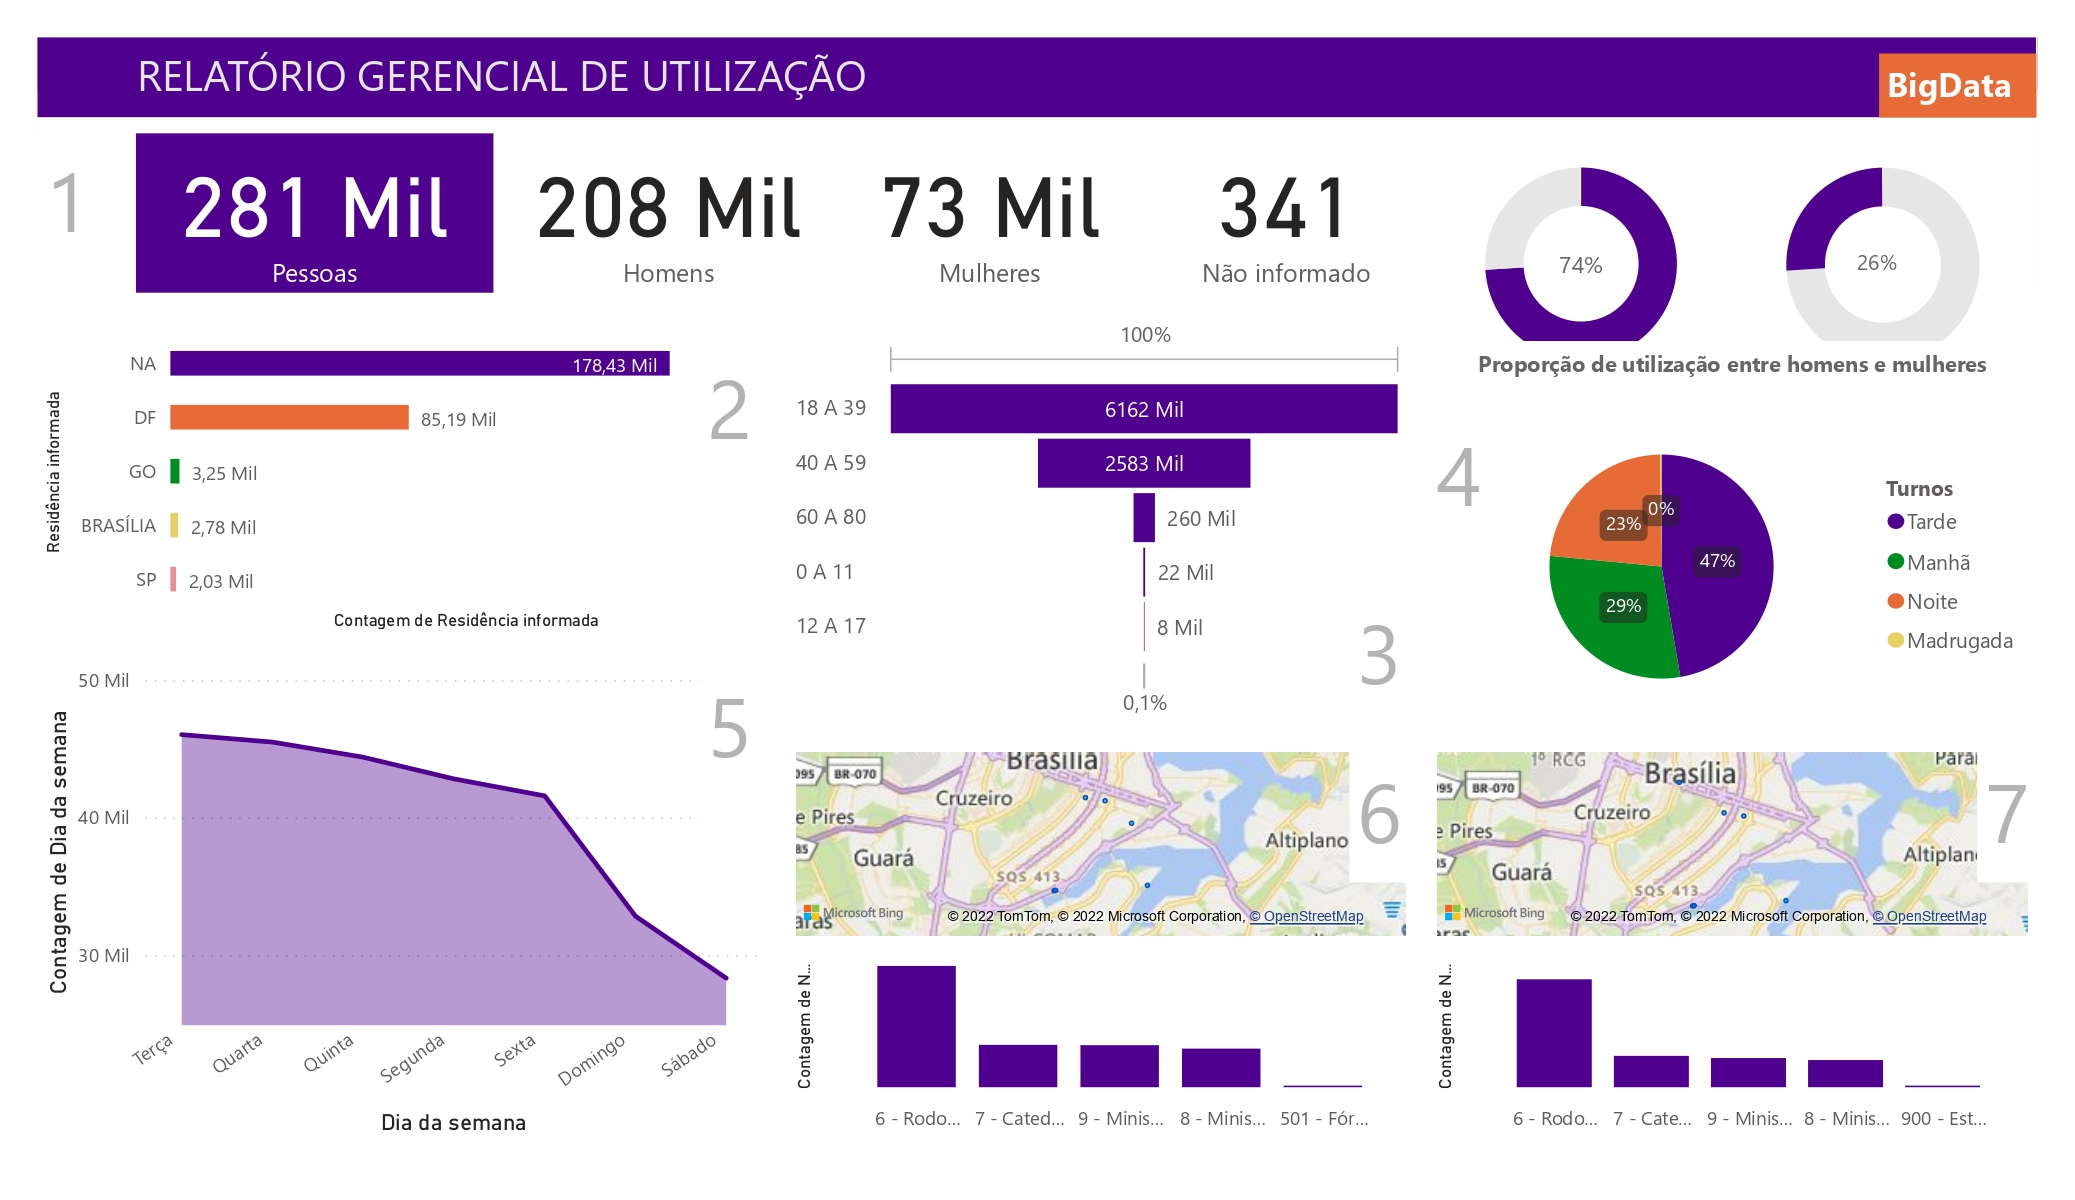

What the dashboard file says about the page in this screenshot:
{"tool":"powerbi","page":{"name":"Página 1","canvas":[1280,720],"ordinal":0},"visuals":[{"type":"textbox","box":[0,0,1279.4,51.1],"z":0},{"type":"card","fields":{"Values":["bikes_importada_tratada.Pessoas"]},"box":[62.8,61.3,229.3,102.2],"z":2000},{"type":"card","fields":{"Values":["bikes_importada_tratada.Homens"]},"box":[305.2,61.3,197.2,102.2],"z":3000},{"type":"card","fields":{"Values":["bikes_importada_tratada.Mulheres"]},"box":[512.6,61.3,194.2,102.2],"z":4000},{"type":"card","fields":{"Values":["bikes_importada_tratada.Não informado"]},"box":[717.1,61.3,163.6,102.2],"z":5000},{"type":"clusteredBarChart","fields":{"Category":["bikes_importada_tratada.Residência informada"],"Y":["bikes_importada_tratada.Residência informada"]},"box":[0,173.8,468.8,210.3],"z":6000},{"type":"funnel","fields":{"Category":["bikes_importada_tratada.Faixa etária"],"Y":["bikes_importada_tratada.Idade"]},"box":[480.5,173.8,400.2,267.3],"z":7000},{"type":"pieChart","fields":{"Category":["bikes_importada_tratada.Turnos"],"Y":["bikes_importada_tratada.Turnos"]},"box":[890.9,236.6,388.5,204.5],"z":8000},{"type":"areaChart","fields":{"Category":["bikes_importada_tratada.Dia da semana"],"Y":["bikes_importada_tratada.Dia da semana"]},"box":[0,397.2,468.8,309.6],"z":9000},{"type":"map","fields":{"Y":["bikes_importada_tratada.Latitude inicial"],"X":["bikes_importada_tratada.Longitude inicial"]},"box":[480.5,452.7,400.2,127.1],"z":10000},{"type":"map","fields":{"Y":["bikes_importada_tratada.Latitude final"],"X":["bikes_importada_tratada.Longitude final"]},"box":[890.9,452.7,388.5,127.1],"z":11000},{"type":"textbox","box":[1178.6,10.2,100.8,40.9],"z":12000},{"type":"textbox","box":[0,61.3,62.8,102.2],"z":13000},{"type":"textbox","box":[423.5,194.2,45.3,84.7],"z":14000},{"type":"textbox","box":[568.1,360.7,48.2,80.3],"z":15000},{"type":"textbox","box":[1241.4,452.7,38,87.6],"z":16000},{"type":"textbox","box":[423.5,397.2,45.3,122.7],"z":17000},{"type":"textbox","box":[839.8,452.7,40.9,87.6],"z":18000},{"type":"textbox","box":[839.8,350.5,40.9,90.5],"z":19000},{"type":"textbox","box":[890.9,236.6,51.1,87.6],"z":20000},{"type":"textbox","box":[890.9,61.3,388.5,165],"z":21000},{"type":"donutChart","fields":{"Category":["bikes_importada_tratada.Gênero do usuário"],"Y":["bikes_importada_tratada.Gênero do usuário"]},"box":[890.9,62.8,194.2,163.6],"z":22000},{"type":"donutChart","fields":{"Y":["bikes_importada_tratada.Mulheres"],"Category":["bikes_importada_tratada.Gênero do usuário"]},"box":[1086.8,62.2,189,164.6],"z":23000},{"type":"textbox","box":[961,130,54,33.6],"z":24000},{"type":"textbox","box":[917.2,194.2,343.2,32.1],"z":25000},{"type":"textbox","box":[1159.6,130,46.7,33.6],"z":26000},{"type":"columnChart","fields":{"Category":["bikes_importada_tratada.Número / Estação inicial"],"Y":["bikes_importada_tratada.Número / Estação inicial"]},"box":[480.5,579.8,400.2,127.1],"z":27000},{"type":"columnChart","fields":{"Category":["bikes_importada_tratada.Número / Estação final"],"Y":["bikes_importada_tratada.Número / Estação final"]},"box":[890.9,579.8,384.1,127.1],"z":28000}]}

Visuals, with their boxes on the page's 1280x720 design canvas (x1, y1, x2, y2). These are canvas units, not pixel positions in the 2075x1200 screenshot, which may show the page scaled, cropped or inside an application window:
textbox: [0, 0, 1279, 51]
card - bikes_importada_tratada.Pessoas: [63, 61, 292, 164]
card - bikes_importada_tratada.Homens: [305, 61, 502, 164]
card - bikes_importada_tratada.Mulheres: [513, 61, 707, 164]
card - bikes_importada_tratada.Não informado: [717, 61, 881, 164]
clusteredBarChart - bikes_importada_tratada.Residência informada x bikes_importada_tratada.Residência informada: [0, 174, 469, 384]
funnel - bikes_importada_tratada.Faixa etária x bikes_importada_tratada.Idade: [480, 174, 881, 441]
pieChart - bikes_importada_tratada.Turnos x bikes_importada_tratada.Turnos: [891, 237, 1279, 441]
areaChart - bikes_importada_tratada.Dia da semana x bikes_importada_tratada.Dia da semana: [0, 397, 469, 707]
map - bikes_importada_tratada.Latitude inicial x bikes_importada_tratada.Longitude inicial: [480, 453, 881, 580]
map - bikes_importada_tratada.Latitude final x bikes_importada_tratada.Longitude final: [891, 453, 1279, 580]
textbox: [1179, 10, 1279, 51]
textbox: [0, 61, 63, 164]
textbox: [424, 194, 469, 279]
textbox: [568, 361, 616, 441]
textbox: [1241, 453, 1279, 540]
textbox: [424, 397, 469, 520]
textbox: [840, 453, 881, 540]
textbox: [840, 350, 881, 441]
textbox: [891, 237, 942, 324]
textbox: [891, 61, 1279, 226]
donutChart - bikes_importada_tratada.Gênero do usuário x bikes_importada_tratada.Gênero do usuário: [891, 63, 1085, 226]
donutChart - bikes_importada_tratada.Mulheres x bikes_importada_tratada.Gênero do usuário: [1087, 62, 1276, 227]
textbox: [961, 130, 1015, 164]
textbox: [917, 194, 1260, 226]
textbox: [1160, 130, 1206, 164]
columnChart - bikes_importada_tratada.Número / Estação inicial x bikes_importada_tratada.Número / Estação inicial: [480, 580, 881, 707]
columnChart - bikes_importada_tratada.Número / Estação final x bikes_importada_tratada.Número / Estação final: [891, 580, 1275, 707]
